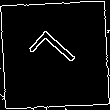L_SE: (26, 26, 84, 84)
